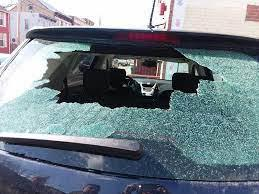Rear-windscreen-Damage: (0, 24, 256, 176)
